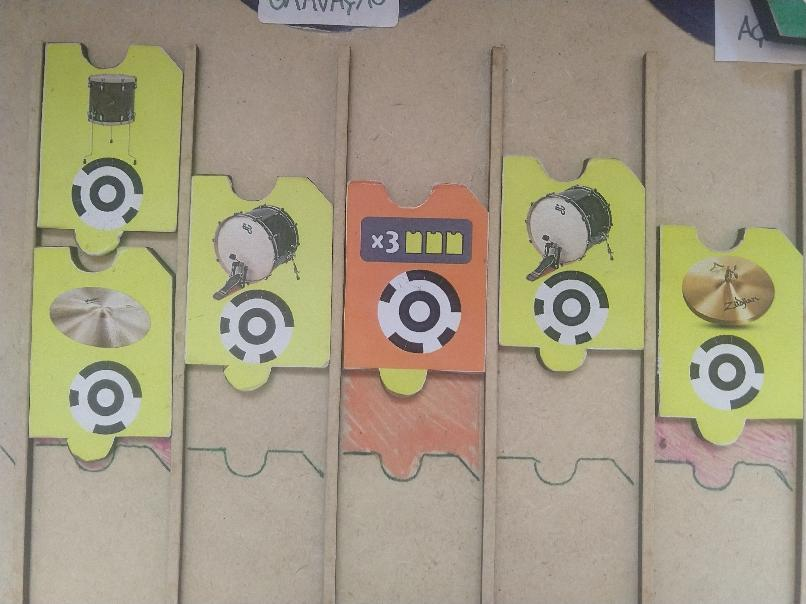bumbo: (496, 151, 648, 373), (186, 169, 333, 390)
